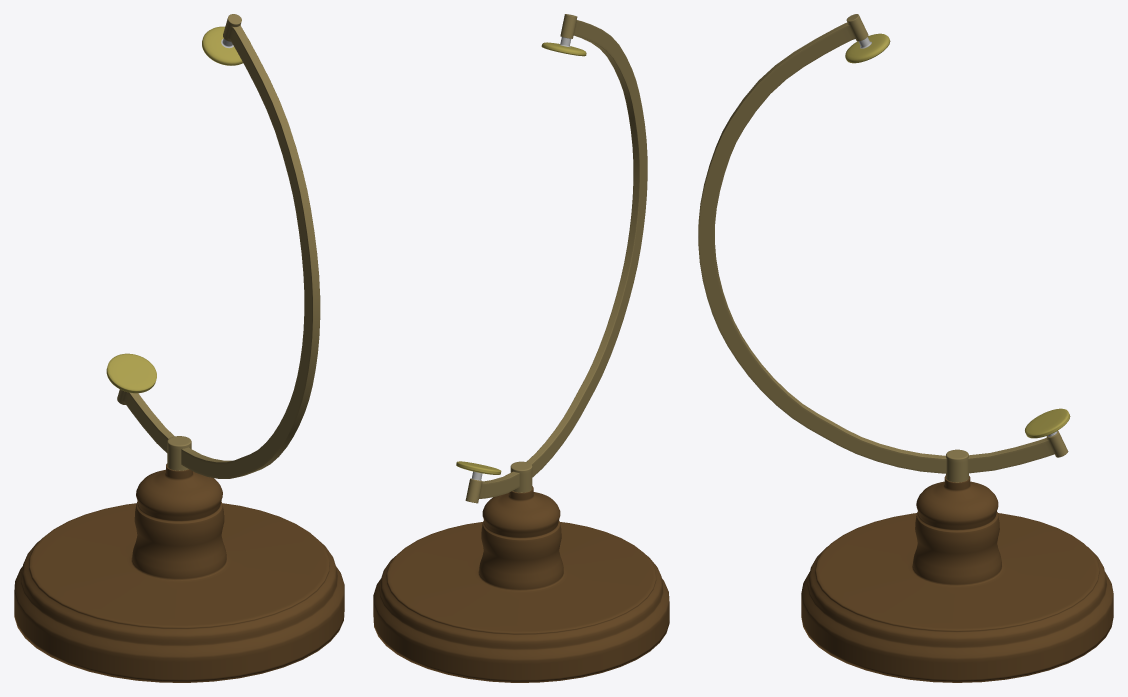
The model's file is globe_holder.fbx.
The picture shows the model from 3 angles, left to right: view 1: azimuth 30°, elevation 25°; view 2: azimuth 150°, elevation 25°; view 3: azimuth 270°, elevation 25°; orthographic projection. The views are drawn at different scales.
Visible parts, largest first — view 1: pCylinder7; view 2: pCylinder7; view 3: pCylinder7.
Part boxes in pixels (bbox=[...]): pCylinder7: bbox=[14, 14, 344, 682]; pCylinder7: bbox=[373, 14, 669, 682]; pCylinder7: bbox=[698, 14, 1113, 682].
Bounding box in the file's own units: 34.51 × 73.45 × 45.88.
